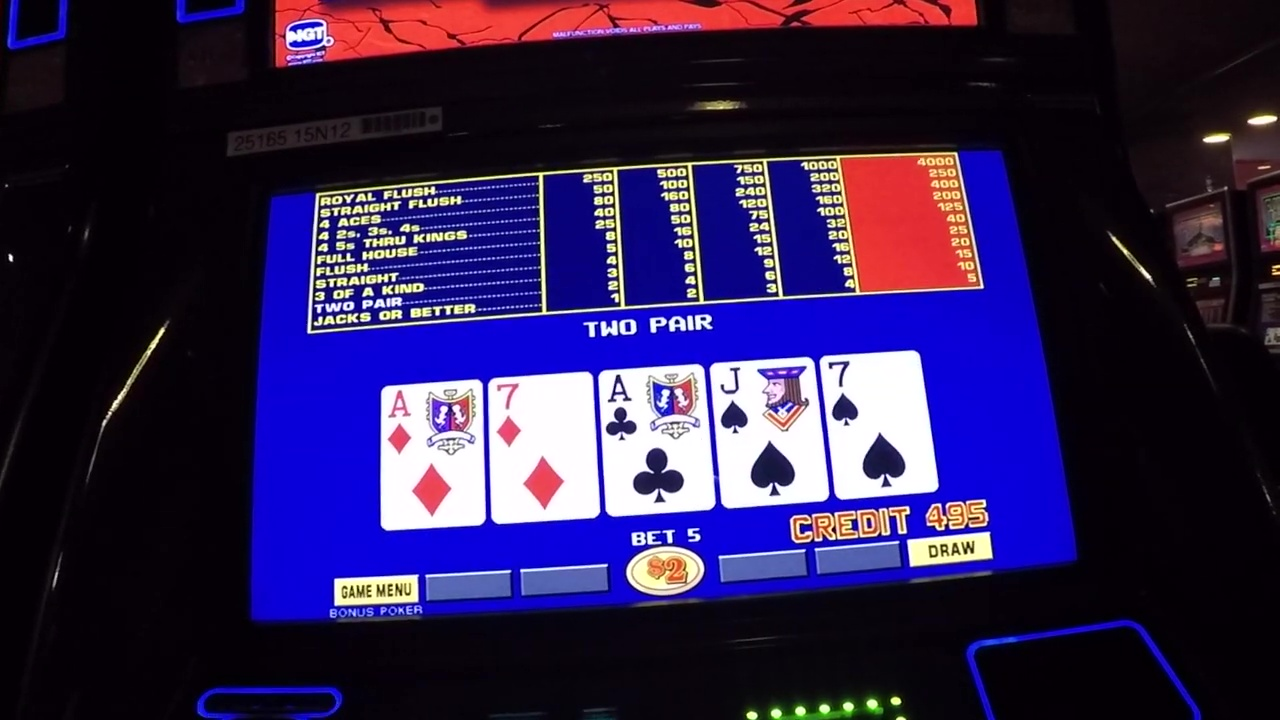CA: (604, 370, 704, 442)
D7: (492, 379, 589, 453)
DA: (389, 385, 477, 458)
S7: (831, 357, 919, 433)
SJ: (716, 363, 813, 436)
